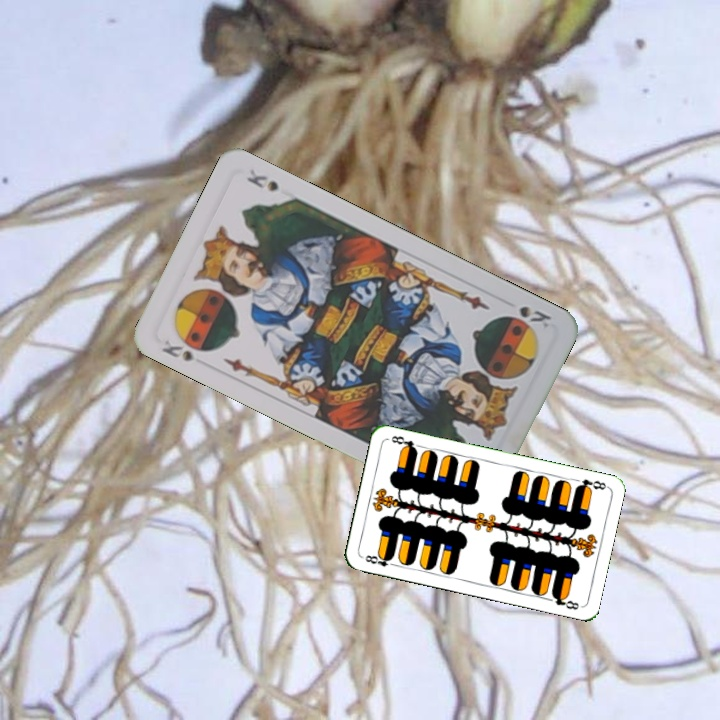E8: (361, 550, 399, 569), (572, 475, 609, 494)
SK: (157, 333, 199, 364), (515, 302, 554, 332)
